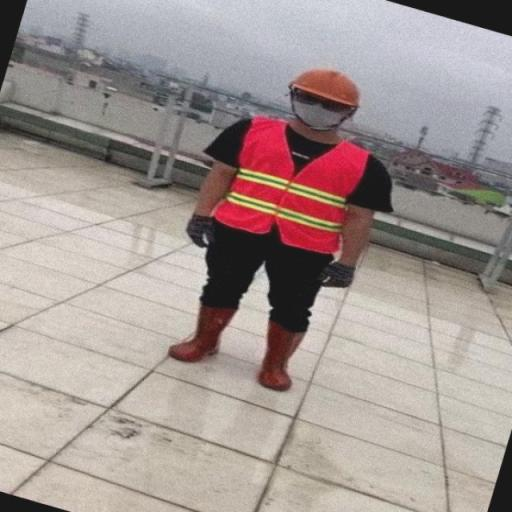Person: (162, 62, 392, 396)
boots: (166, 299, 243, 377), (251, 312, 313, 403)
gloves: (318, 256, 370, 304), (178, 209, 222, 255)
goggles: (295, 92, 362, 118)
helmet: (284, 64, 370, 106)
vest: (212, 114, 370, 264)
